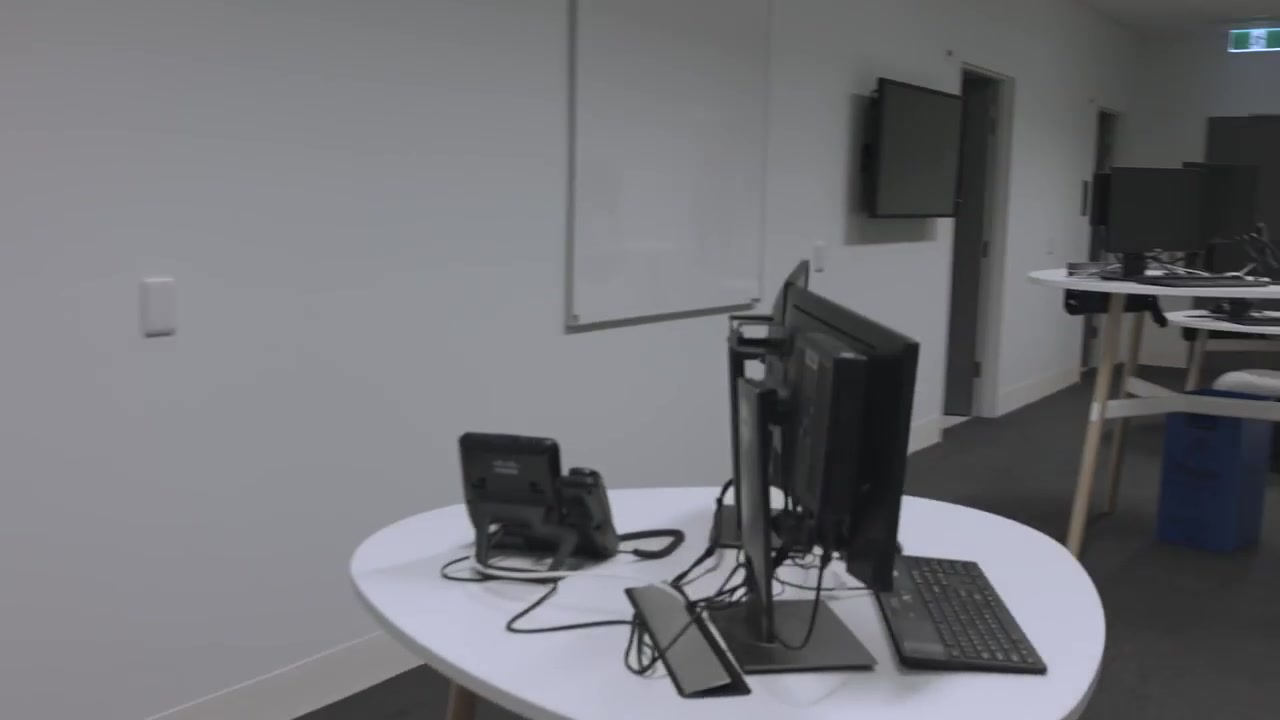TV: (868, 77, 968, 220)
computer: (765, 285, 923, 588), (1104, 164, 1207, 254), (1184, 159, 1260, 237)
keyboard: (875, 555, 1047, 679)
table: (348, 484, 1105, 720), (1029, 260, 1280, 560)
telephone: (447, 418, 688, 572)
waste_bin: (1153, 387, 1280, 557)
